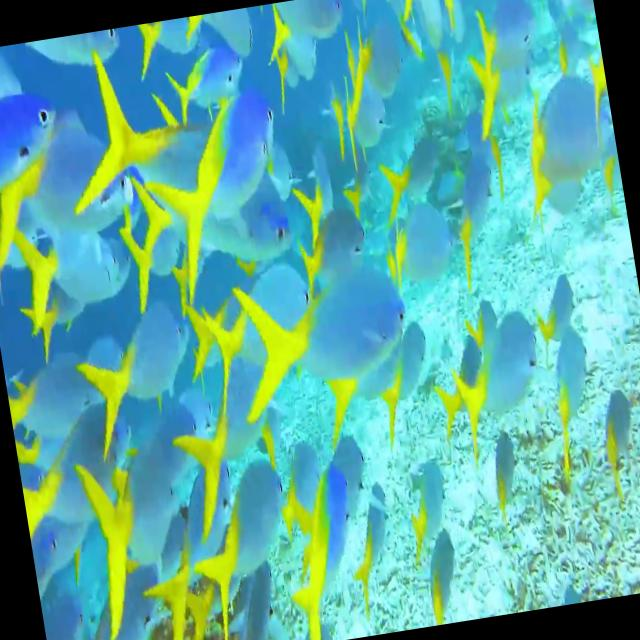fish: (69, 378, 249, 624), (142, 85, 312, 299), (235, 252, 421, 416), (55, 53, 214, 238), (58, 274, 214, 462), (176, 445, 311, 640), (275, 434, 395, 636), (10, 204, 139, 346), (446, 304, 556, 459), (184, 148, 300, 273), (533, 324, 611, 494), (517, 62, 620, 180), (436, 156, 512, 306), (0, 67, 73, 206), (341, 476, 408, 609), (288, 183, 376, 278), (368, 114, 448, 210), (460, 41, 532, 140), (586, 380, 640, 498), (26, 26, 134, 79), (414, 528, 470, 626), (398, 456, 456, 548), (270, 8, 330, 94), (528, 260, 589, 343), (187, 6, 263, 70), (467, 0, 545, 55), (136, 16, 202, 78), (265, 0, 352, 41)
